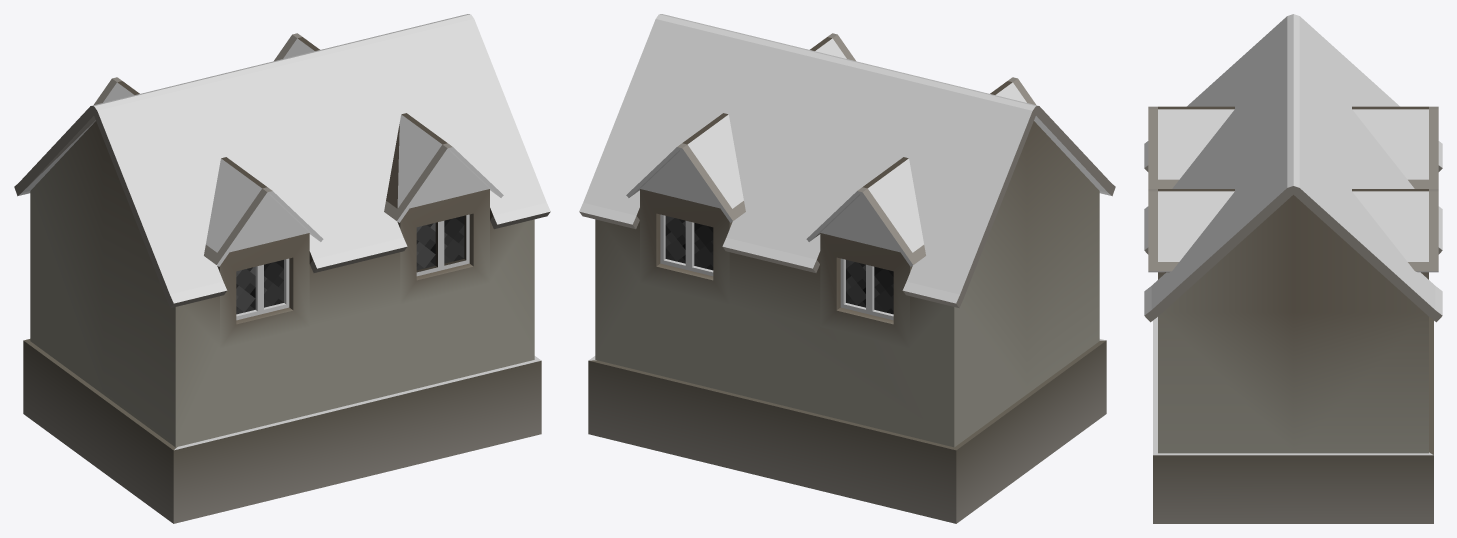
The model's file is DividedLargeHouse.fbx.
3 views of the same model, side by side, from view 1: azimuth 30°, elevation 25°; view 2: azimuth 150°, elevation 25°; view 3: azimuth 270°, elevation 25° (orthographic). The views are drawn at different scales.
Visible parts, largest first — view 1: Base-1Floor_B.002, Base-1Floor_B.021, Base-1Floor_B.001, Base-1Floor_B.003, Base-1Floor_B.023, Base-1Floor_B.006, Base-1Floor_B.005, Base-1Floor_B.020, Base-1Floor_B.016, Base-1Floor_B.015, Base-1Floor_B.025, Base-1Floor_B.024 (+8 smaller); view 2: Base-1Floor_B.002, Base-1Floor_B.021, Base-1Floor_B.001, Base-1Floor_B.017, Base-1Floor_B.003, Base-1Floor_B.023, Base-1Floor_B.020, Base-1Floor_B.016, Base-1Floor_B.028, Base-1Floor_B.015, Base-1Floor_B.025, Base-1Floor_B.024 (+7 smaller); view 3: Base-1Floor_B.002, Base-1Floor_B.021, Base-1Floor_B.001, Base-1Floor_B.003, Base-1Floor_B.020, Base-1Floor_B.025, Base-1Floor_B.015, Base-1Floor_B.023, Base-1Floor_B.024, Base-1Floor_B.004, Base-1Floor_B.
Boxes of the visible parts, x1,y1,x2,y2 form: Base-1Floor_B.002: [30, 191, 534, 447]; Base-1Floor_B.021: [106, 21, 537, 292]; Base-1Floor_B.001: [23, 340, 541, 523]; Base-1Floor_B.003: [30, 121, 161, 286]; Base-1Floor_B.023: [91, 14, 550, 303]; Base-1Floor_B.006: [220, 233, 309, 348]; Base-1Floor_B.005: [400, 189, 489, 304]; Base-1Floor_B.020: [103, 38, 442, 252]; Base-1Floor_B.016: [230, 151, 489, 252]; Base-1Floor_B.015: [14, 106, 550, 308]; Base-1Floor_B.025: [25, 33, 452, 264]; Base-1Floor_B.024: [100, 16, 464, 108]; Base-1Floor_B.002: [595, 191, 1099, 447]; Base-1Floor_B.021: [592, 21, 1023, 292]; Base-1Floor_B.001: [588, 340, 1106, 523]; Base-1Floor_B.017: [640, 189, 909, 348]; Base-1Floor_B.003: [968, 121, 1099, 286]; Base-1Floor_B.023: [579, 14, 1038, 303]; Base-1Floor_B.020: [687, 38, 1026, 252]; Base-1Floor_B.016: [640, 151, 899, 252]; Base-1Floor_B.028: [665, 216, 893, 314]; Base-1Floor_B.015: [579, 106, 1115, 308]; Base-1Floor_B.025: [677, 33, 1036, 264]; Base-1Floor_B.024: [665, 16, 1029, 108]; Base-1Floor_B.002: [1158, 312, 1428, 453]; Base-1Floor_B.021: [1151, 20, 1434, 305]; Base-1Floor_B.001: [1153, 455, 1433, 523]; Base-1Floor_B.003: [1163, 195, 1423, 312]; Base-1Floor_B.020: [1158, 109, 1428, 261]; Base-1Floor_B.025: [1148, 106, 1438, 271]; Base-1Floor_B.015: [1144, 165, 1442, 322]; Base-1Floor_B.023: [1144, 14, 1442, 315]; Base-1Floor_B.024: [1287, 18, 1299, 183]; Base-1Floor_B.004: [1153, 317, 1433, 455]; Base-1Floor_B: [1165, 272, 1433, 454].
Bounding box in the file's own units: 1050 × 969 × 771.
